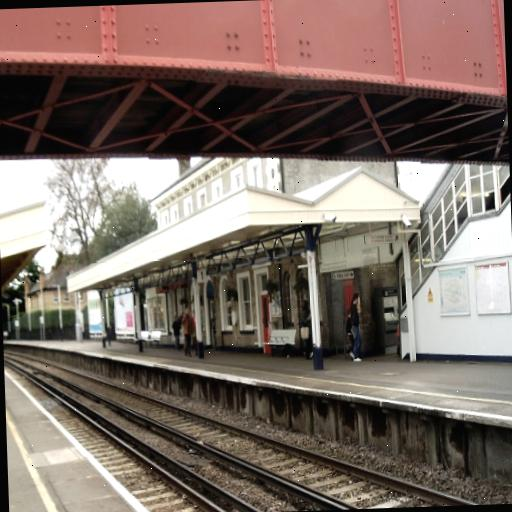platform_edge: (114, 335, 512, 455), (4, 365, 157, 512)
